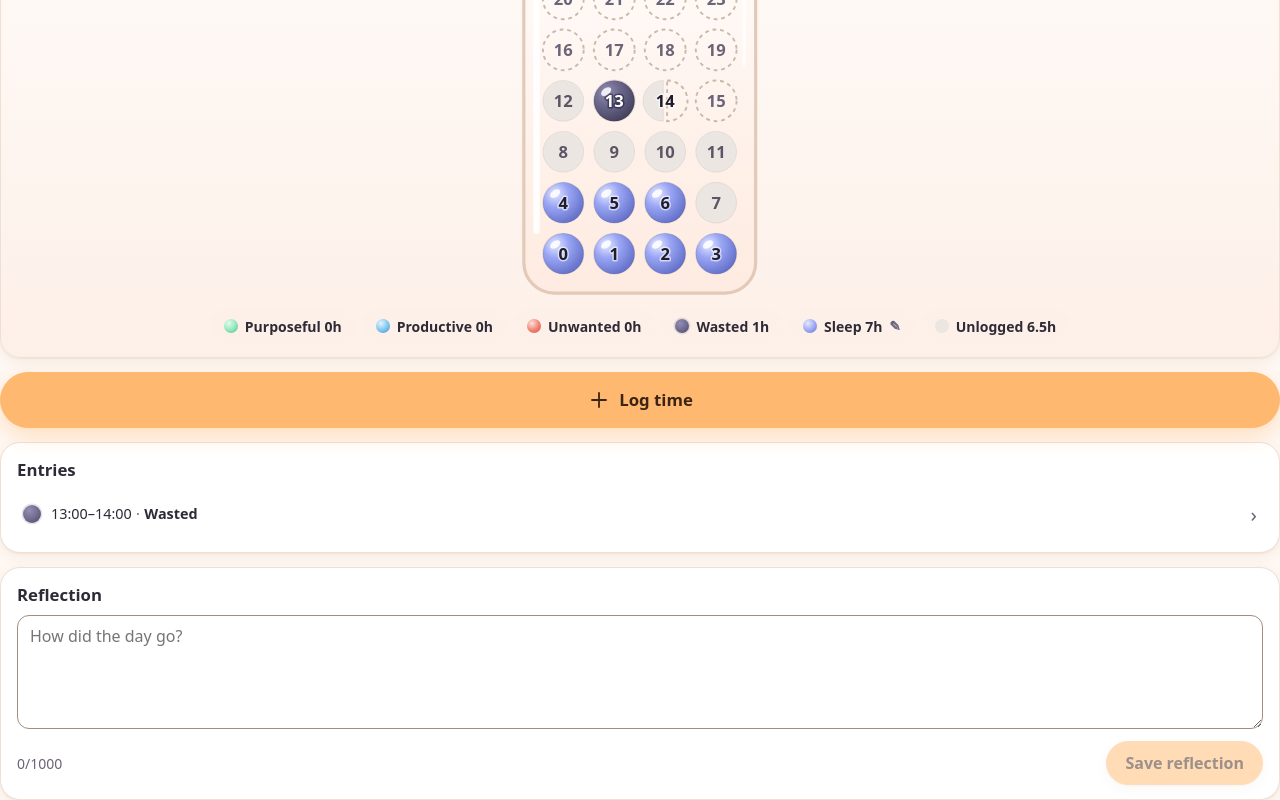
Test case: DayView › asks before overwriting logged time and then saves
(page scrolled)
Click the button "Log time" at (640, 400), box [0,372,1279,428]
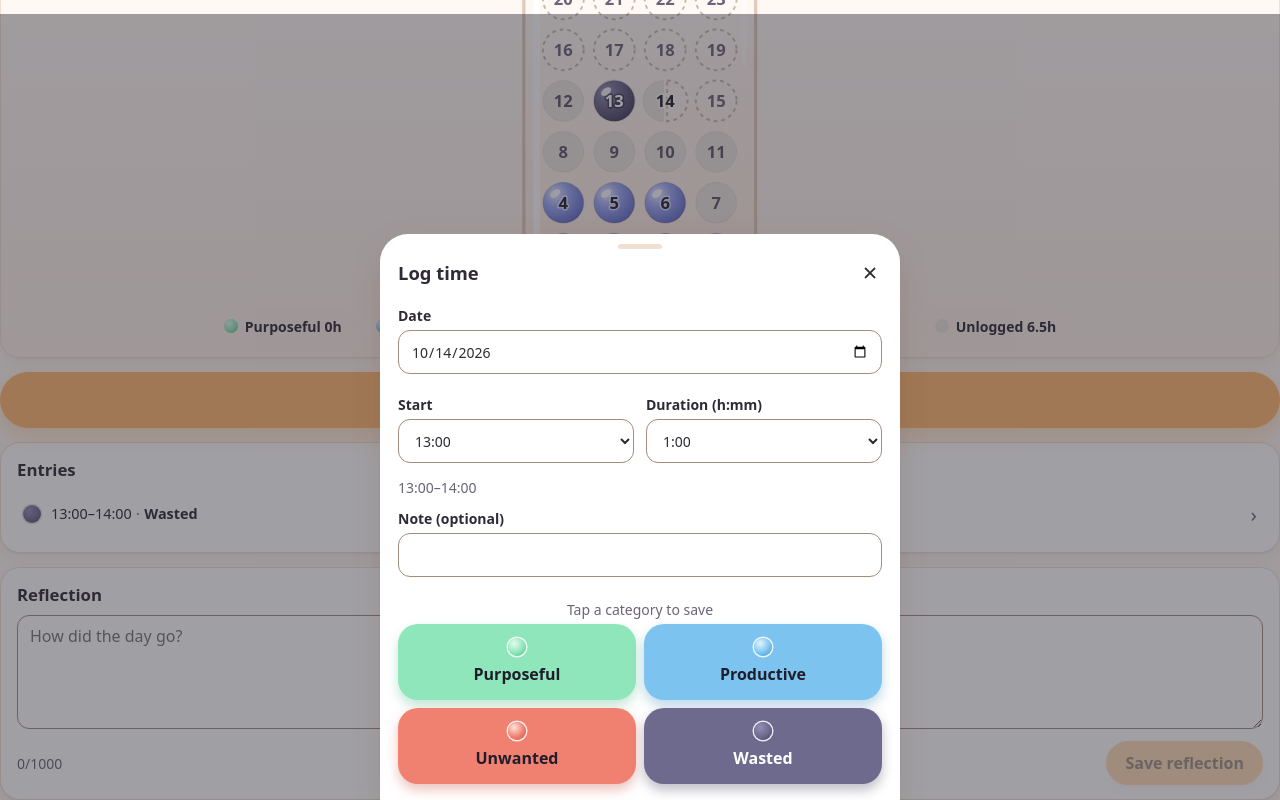
expect the button "Productive" is enabled: met
Click the button "Productive" at (763, 662), box [644,624,882,700]
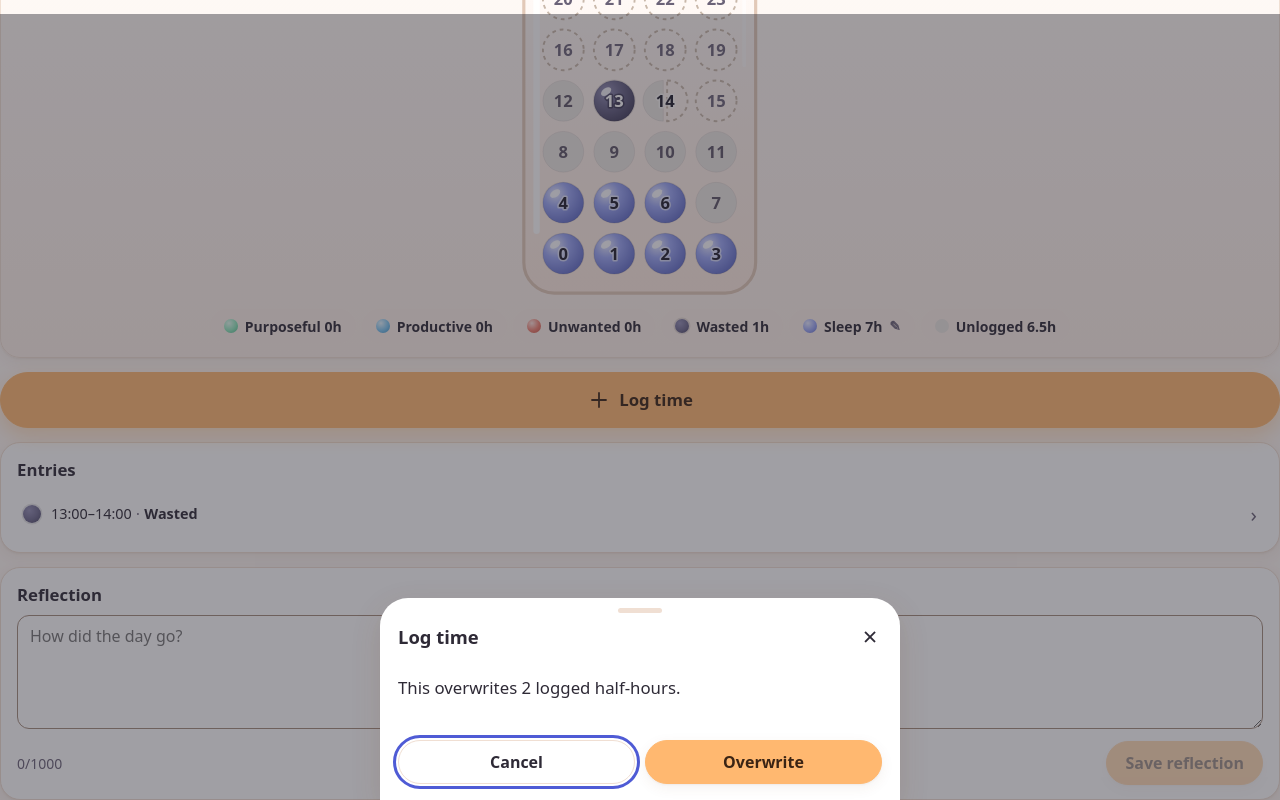
expect the text "This overwrites 2 logged half-hours." is shown: met, box [398,676,680,699]
Click the button "Cancel" at (516, 762), box [398,740,635,784]
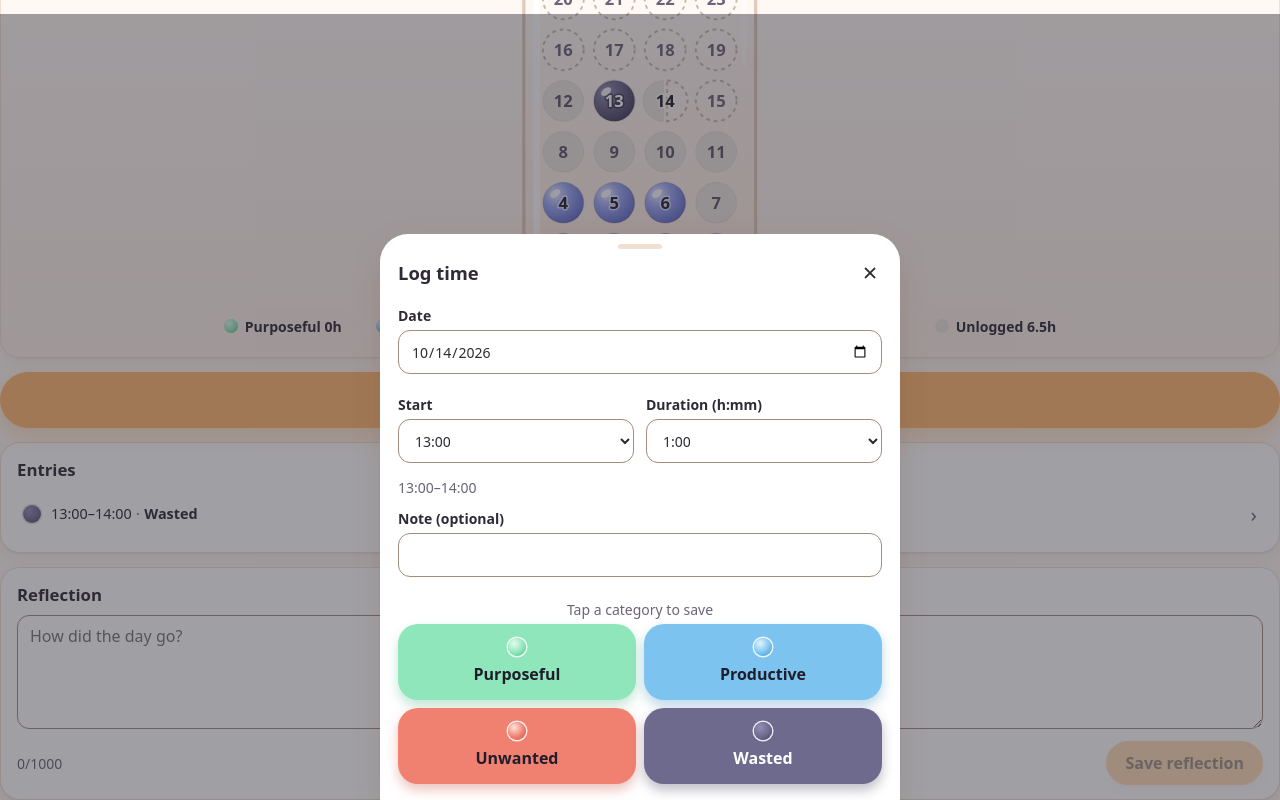
expect the button "Productive" is shown: met
Click the button "Productive" at (763, 662), box [644,624,882,700]
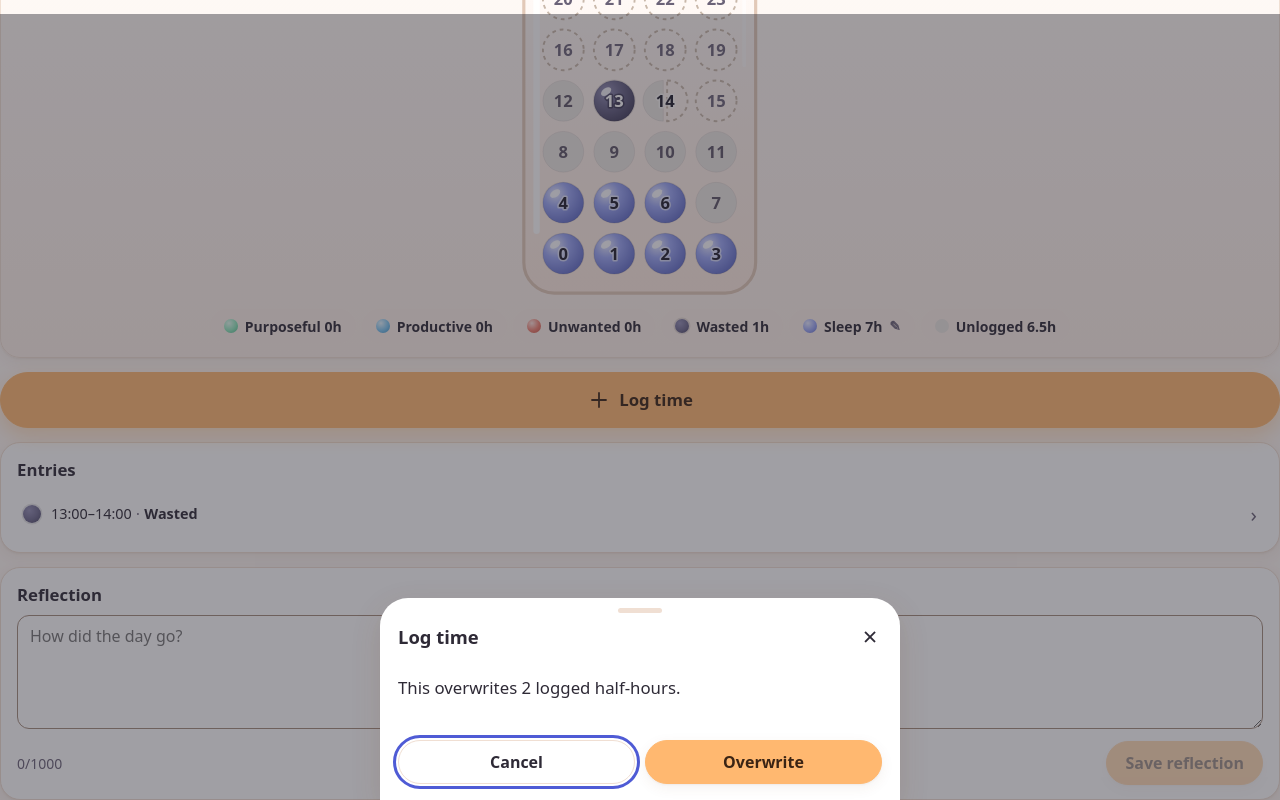
Click the button "Overwrite" at (764, 762), box [645,740,882,784]
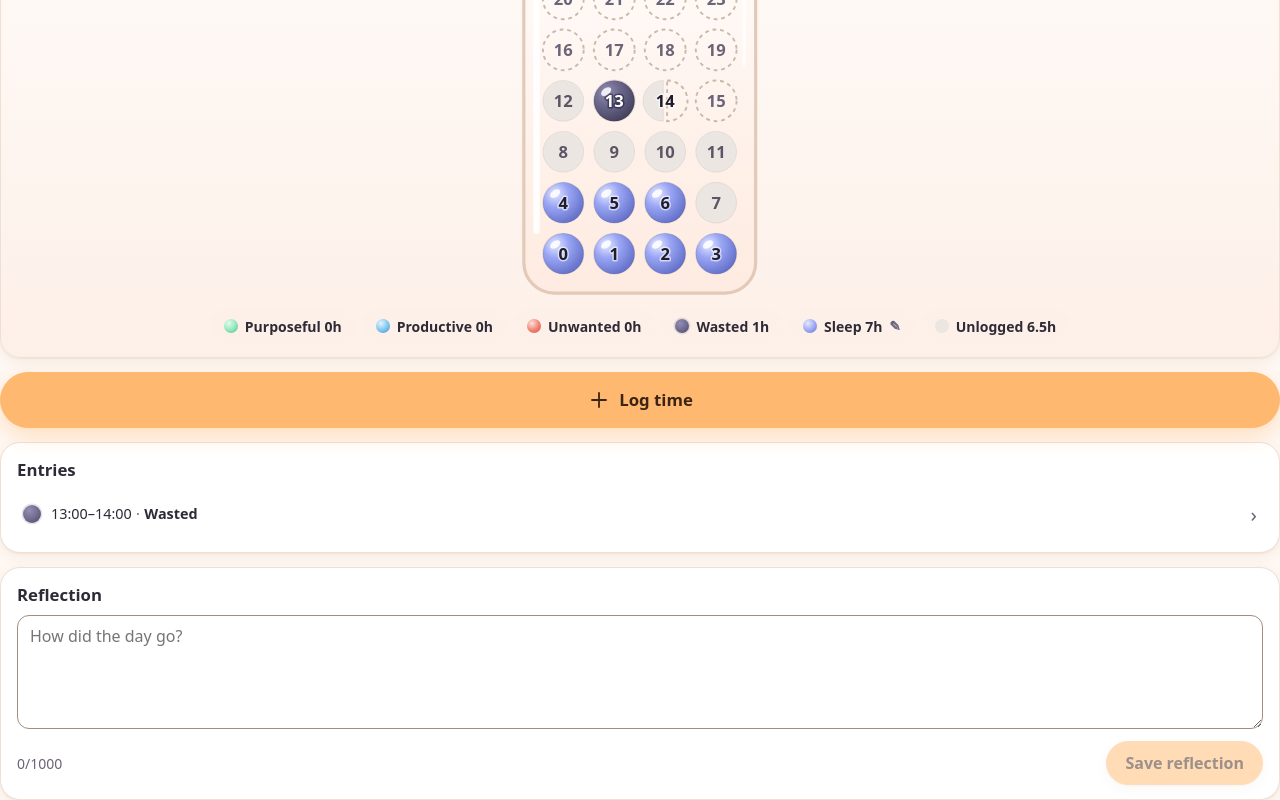
expect the dialog is gone: met
